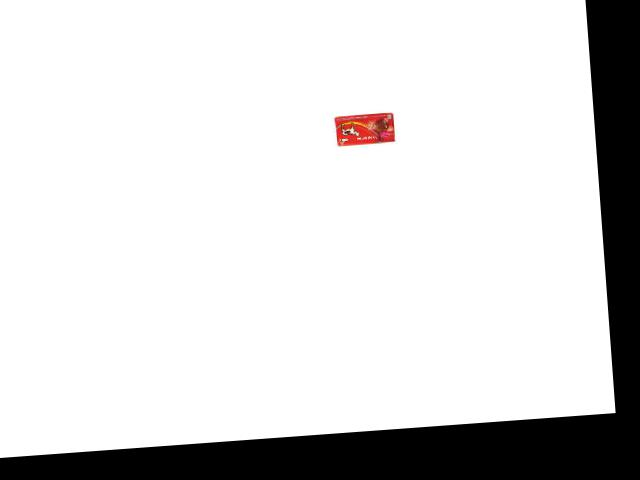chocolate: (331, 109, 395, 146)
